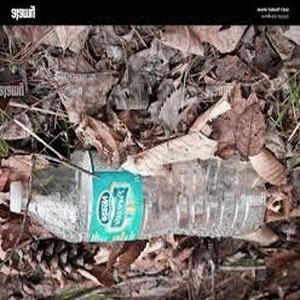Plastic: (8, 158, 269, 248)
